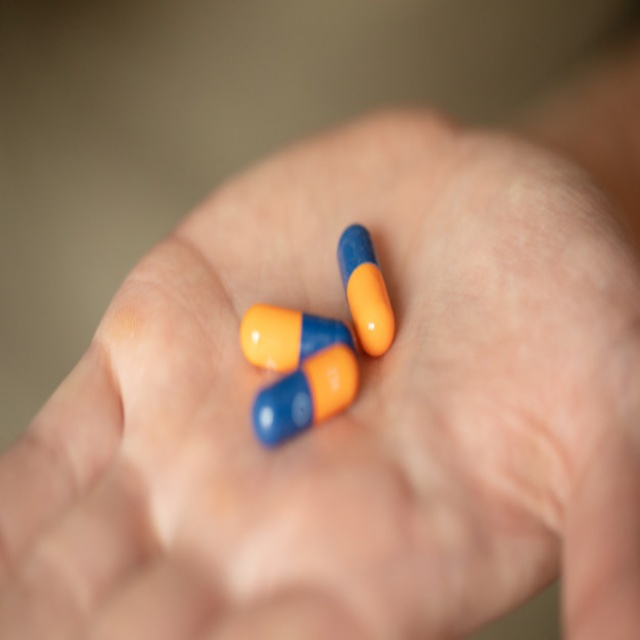pill: (247, 207, 351, 276), (234, 184, 348, 233), (327, 135, 391, 217)
